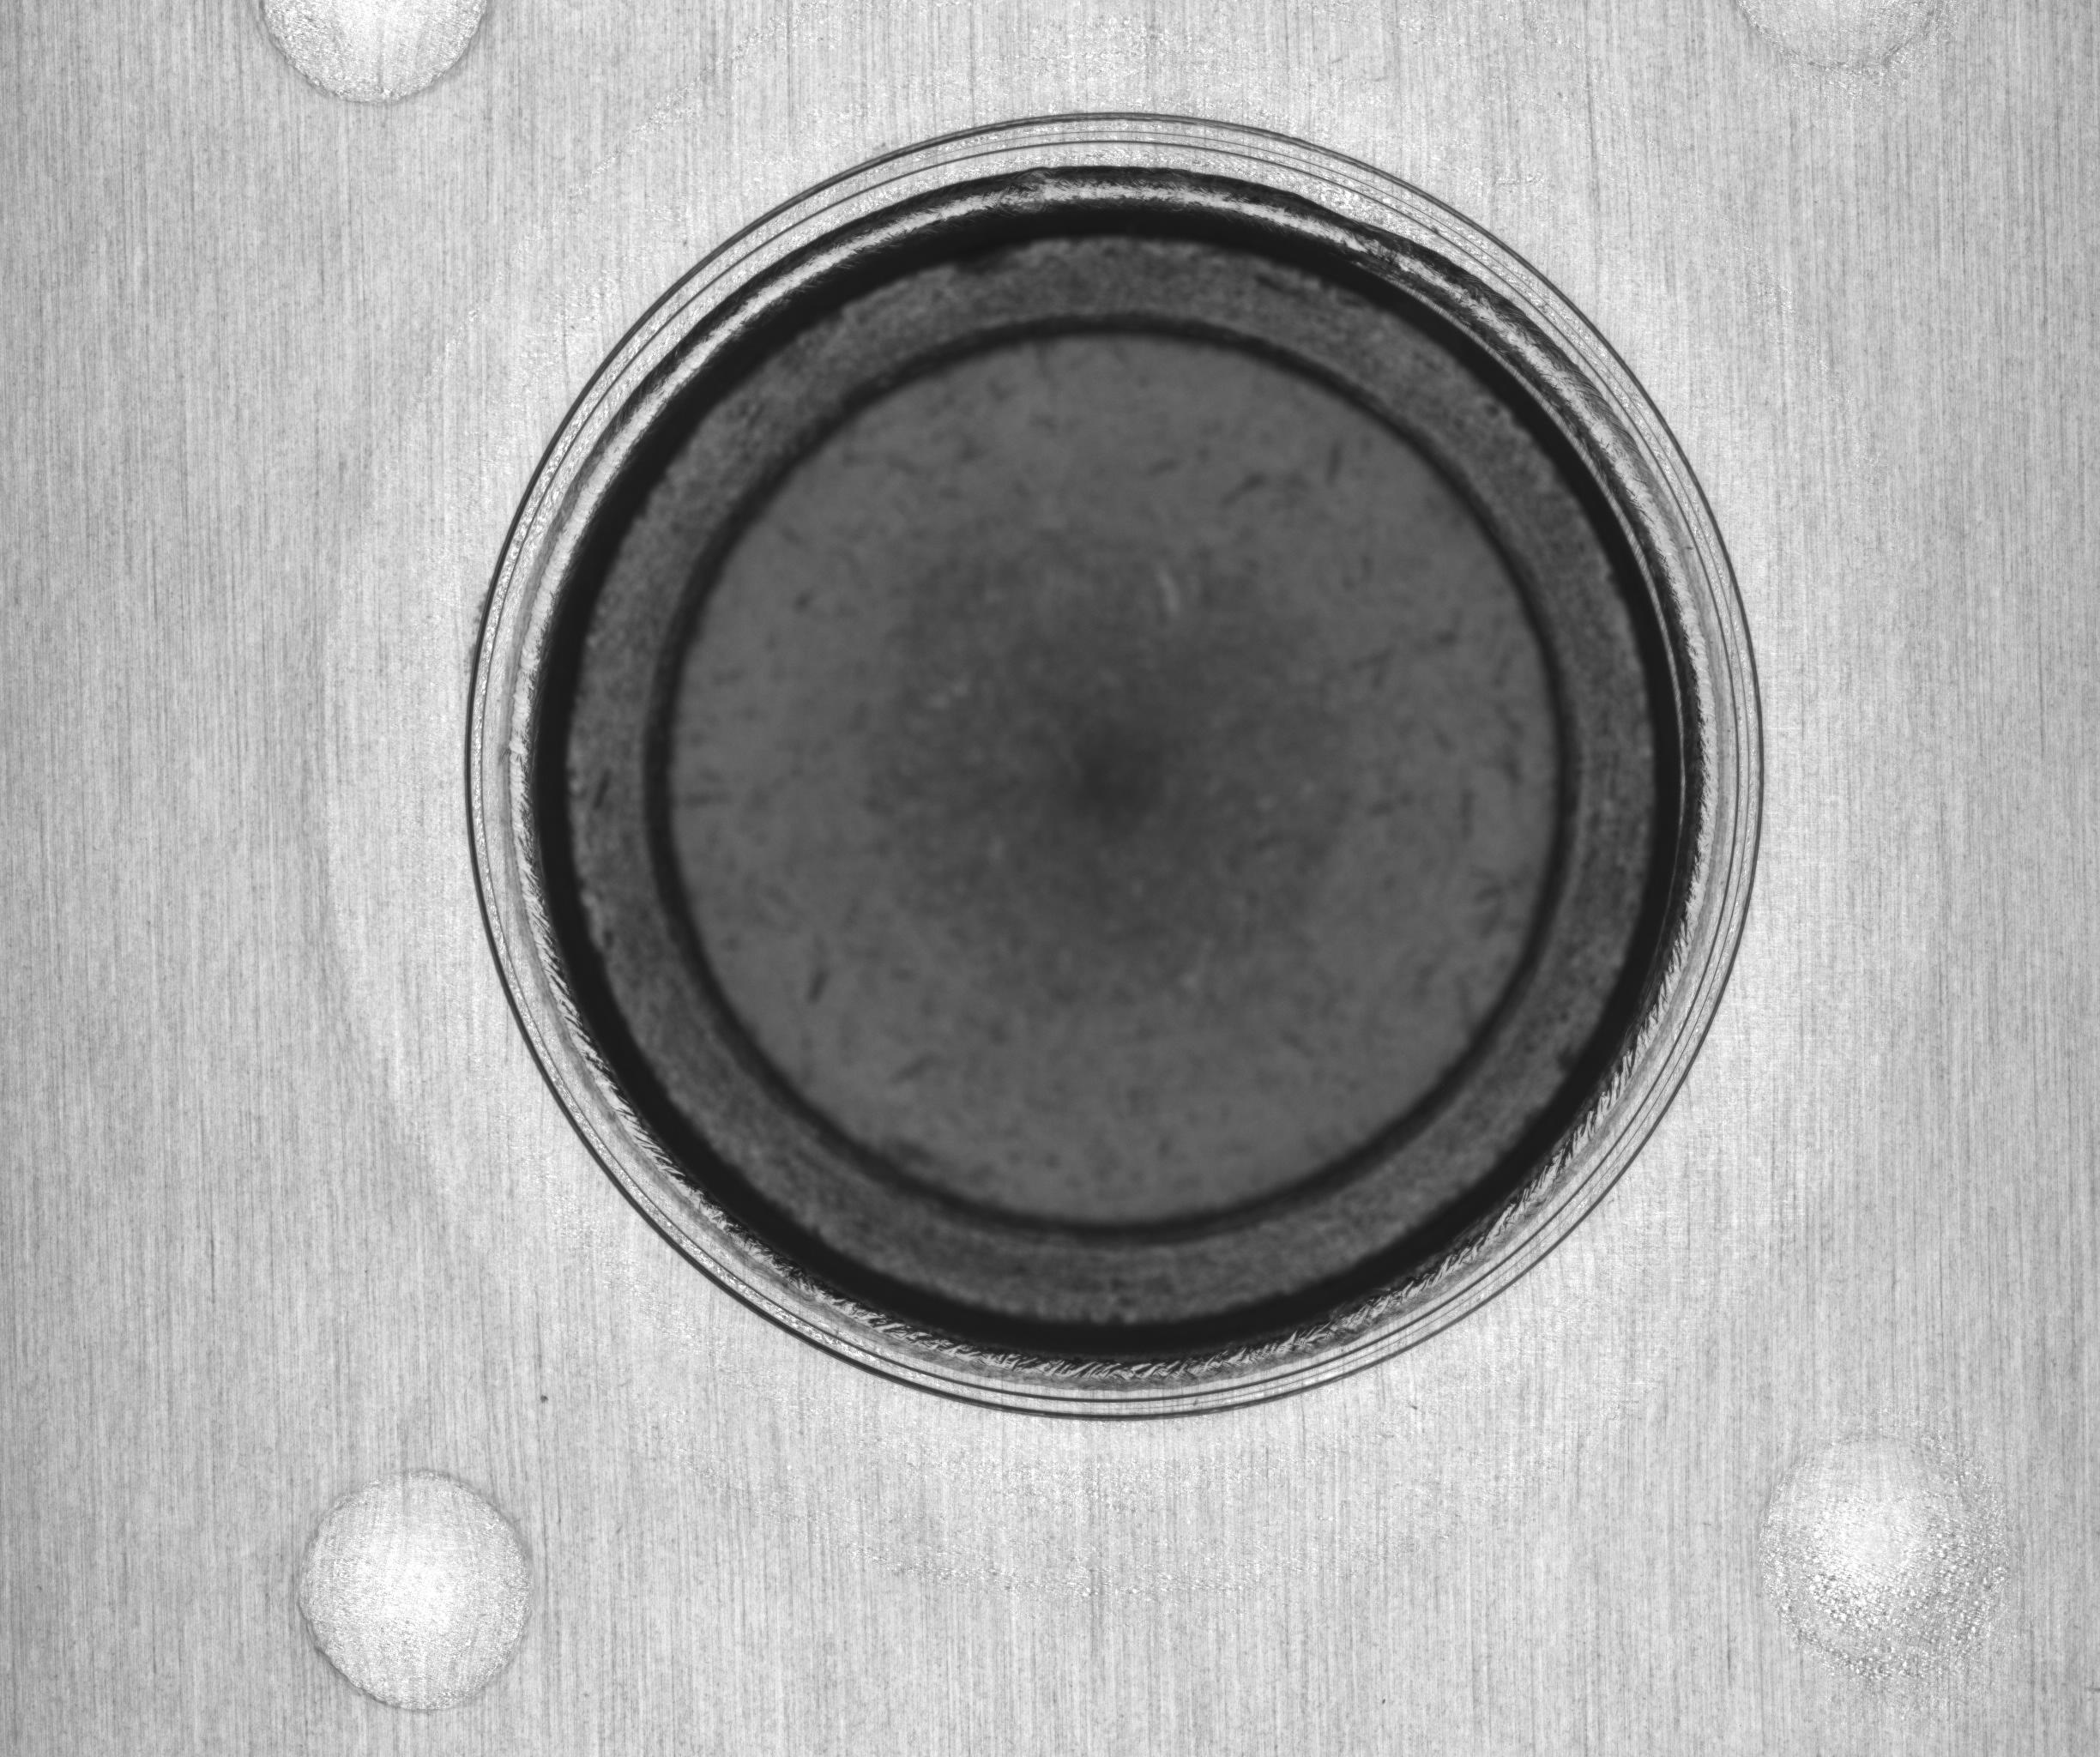coveriswrong: (509, 192, 1756, 1364)
